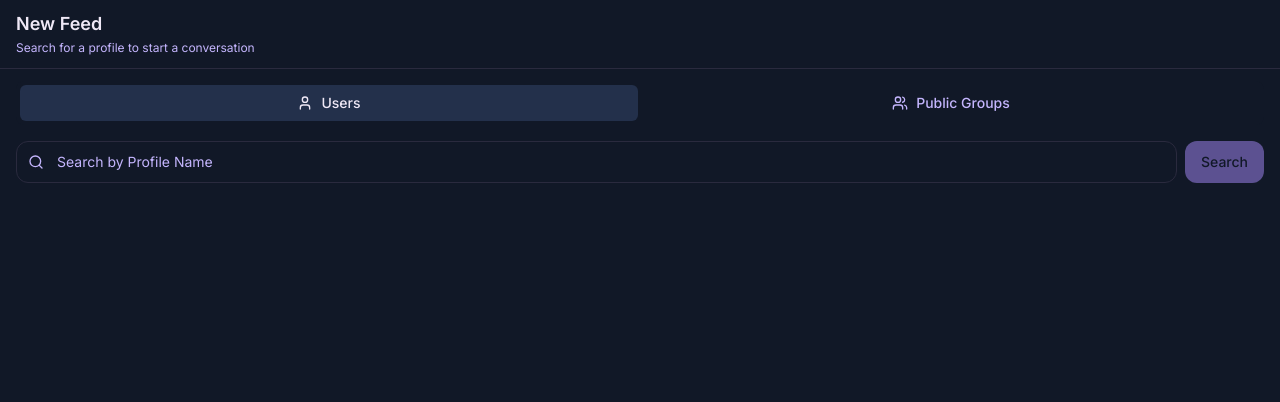
Test: NewChatView › Header › should update subtitle when switching tabs
Expected: the text "Search for a profile to start a conversation" is shown, x1=16 y1=40 x2=255 y2=56
Switch to Public Groups
Click the tab "Public Groups".
click(951, 103)  # box x1=642 y1=85 x2=1260 y2=121
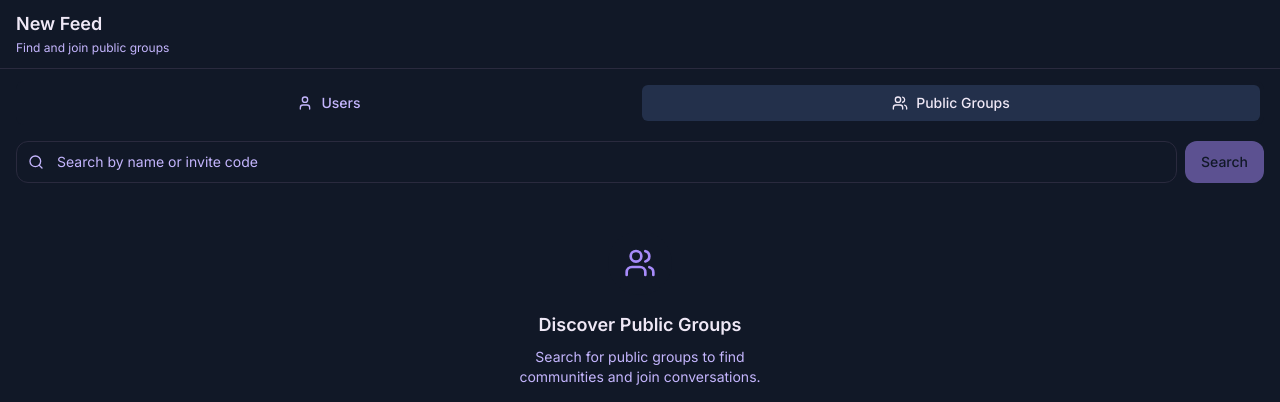
Now the text "Find and join public groups" is shown, box x1=16 y1=40 x2=169 y2=56
